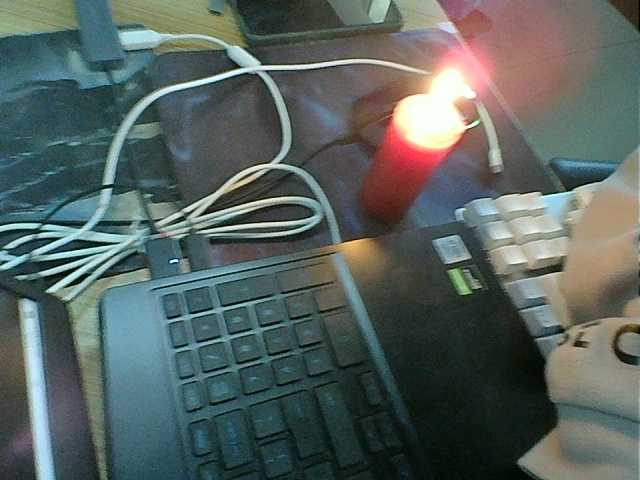candle: (353, 94, 470, 236)
fire: (402, 66, 474, 150)
